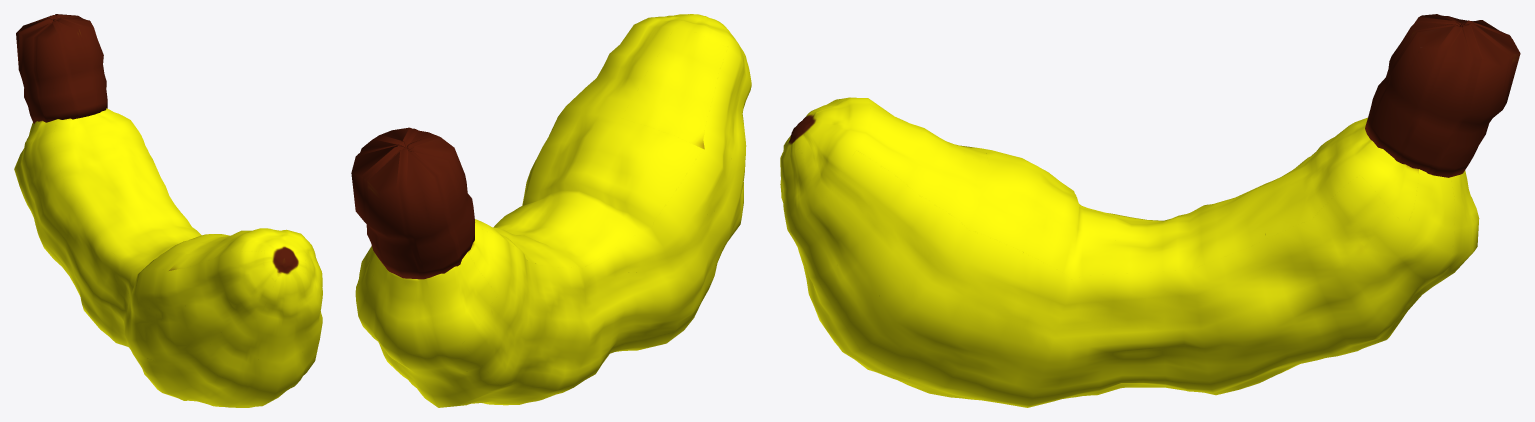
File: Plátano.glb
The picture shows the model from 3 angles, left to right: view 1: azimuth 30°, elevation 25°; view 2: azimuth 150°, elevation 25°; view 3: azimuth 270°, elevation 25°; orthographic projection. The views are drawn at different scales.
Parts seen in each view (by area): view 1: banana; view 2: banana; view 3: banana.
Part boxes in pixels (x1,y1,x2,y2): banana: [14, 14, 322, 407]; banana: [351, 14, 751, 407]; banana: [780, 14, 1520, 407].
Size of the model in its own units: 0.5056 by 0.8712 by 1.54.
1 material, 1 textured.
